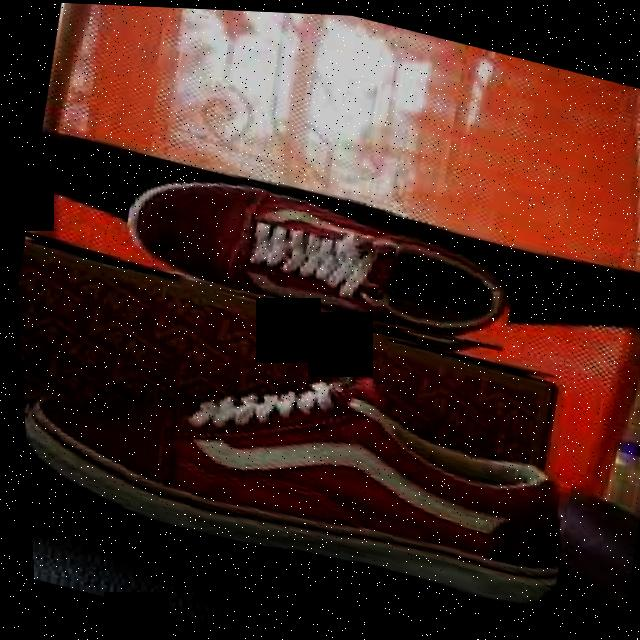shoe: (14, 295, 583, 617), (110, 155, 523, 365)
